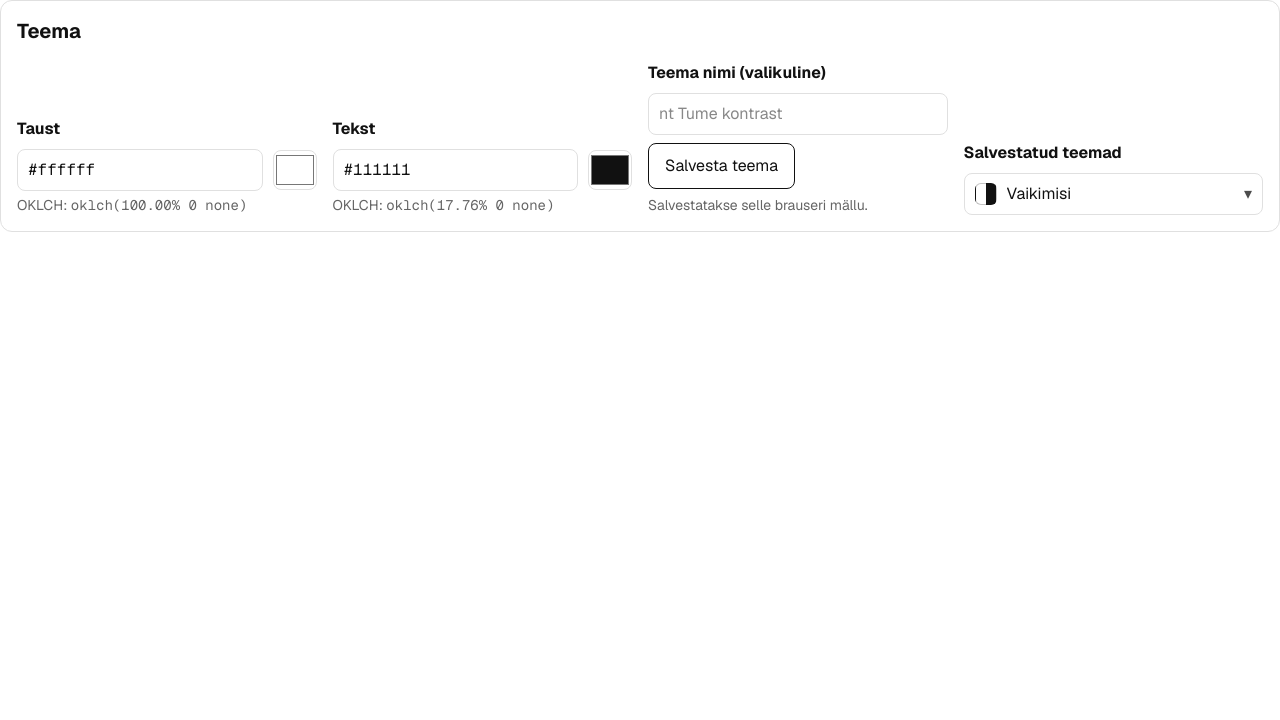
it: ThemePicker › updates the hex field and the page from the colour picker
Type "#ff0000" into the colour field named "Taust: värvivalija" at (294, 170), box [272,150,316,190]
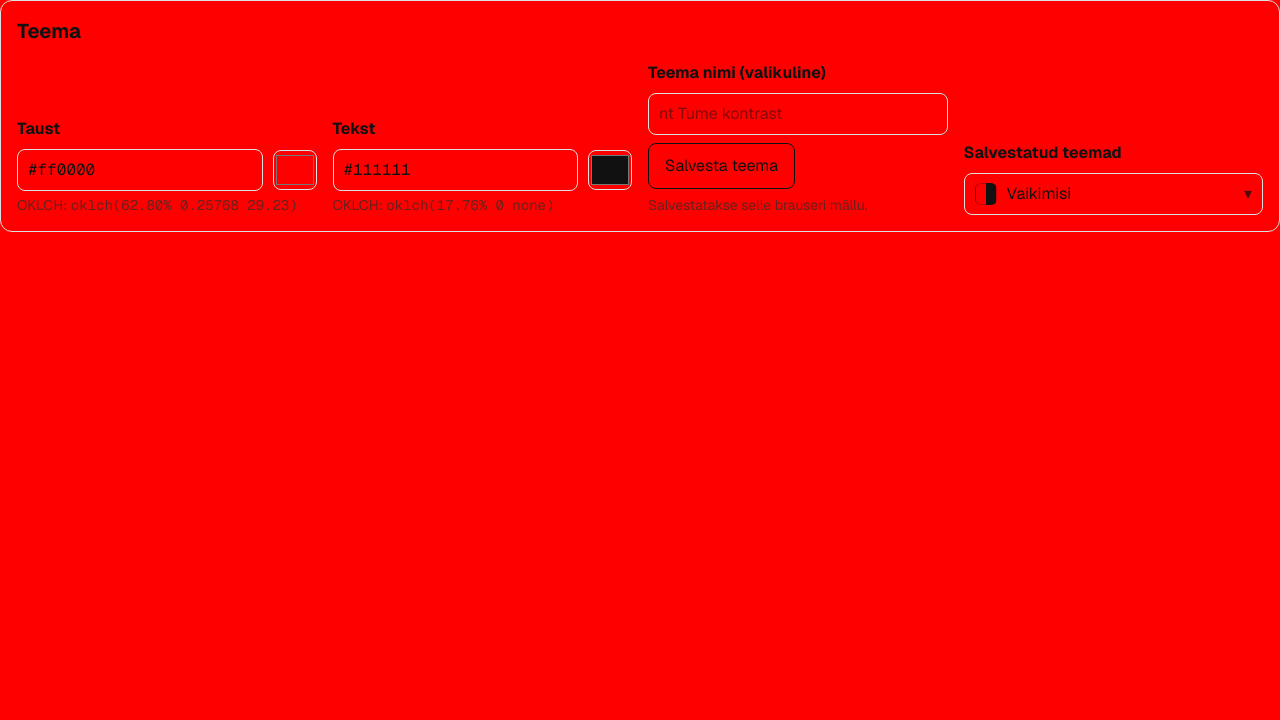
Expected: the field labelled "Taust" holds "#ff0000", [17,149,262,191]
